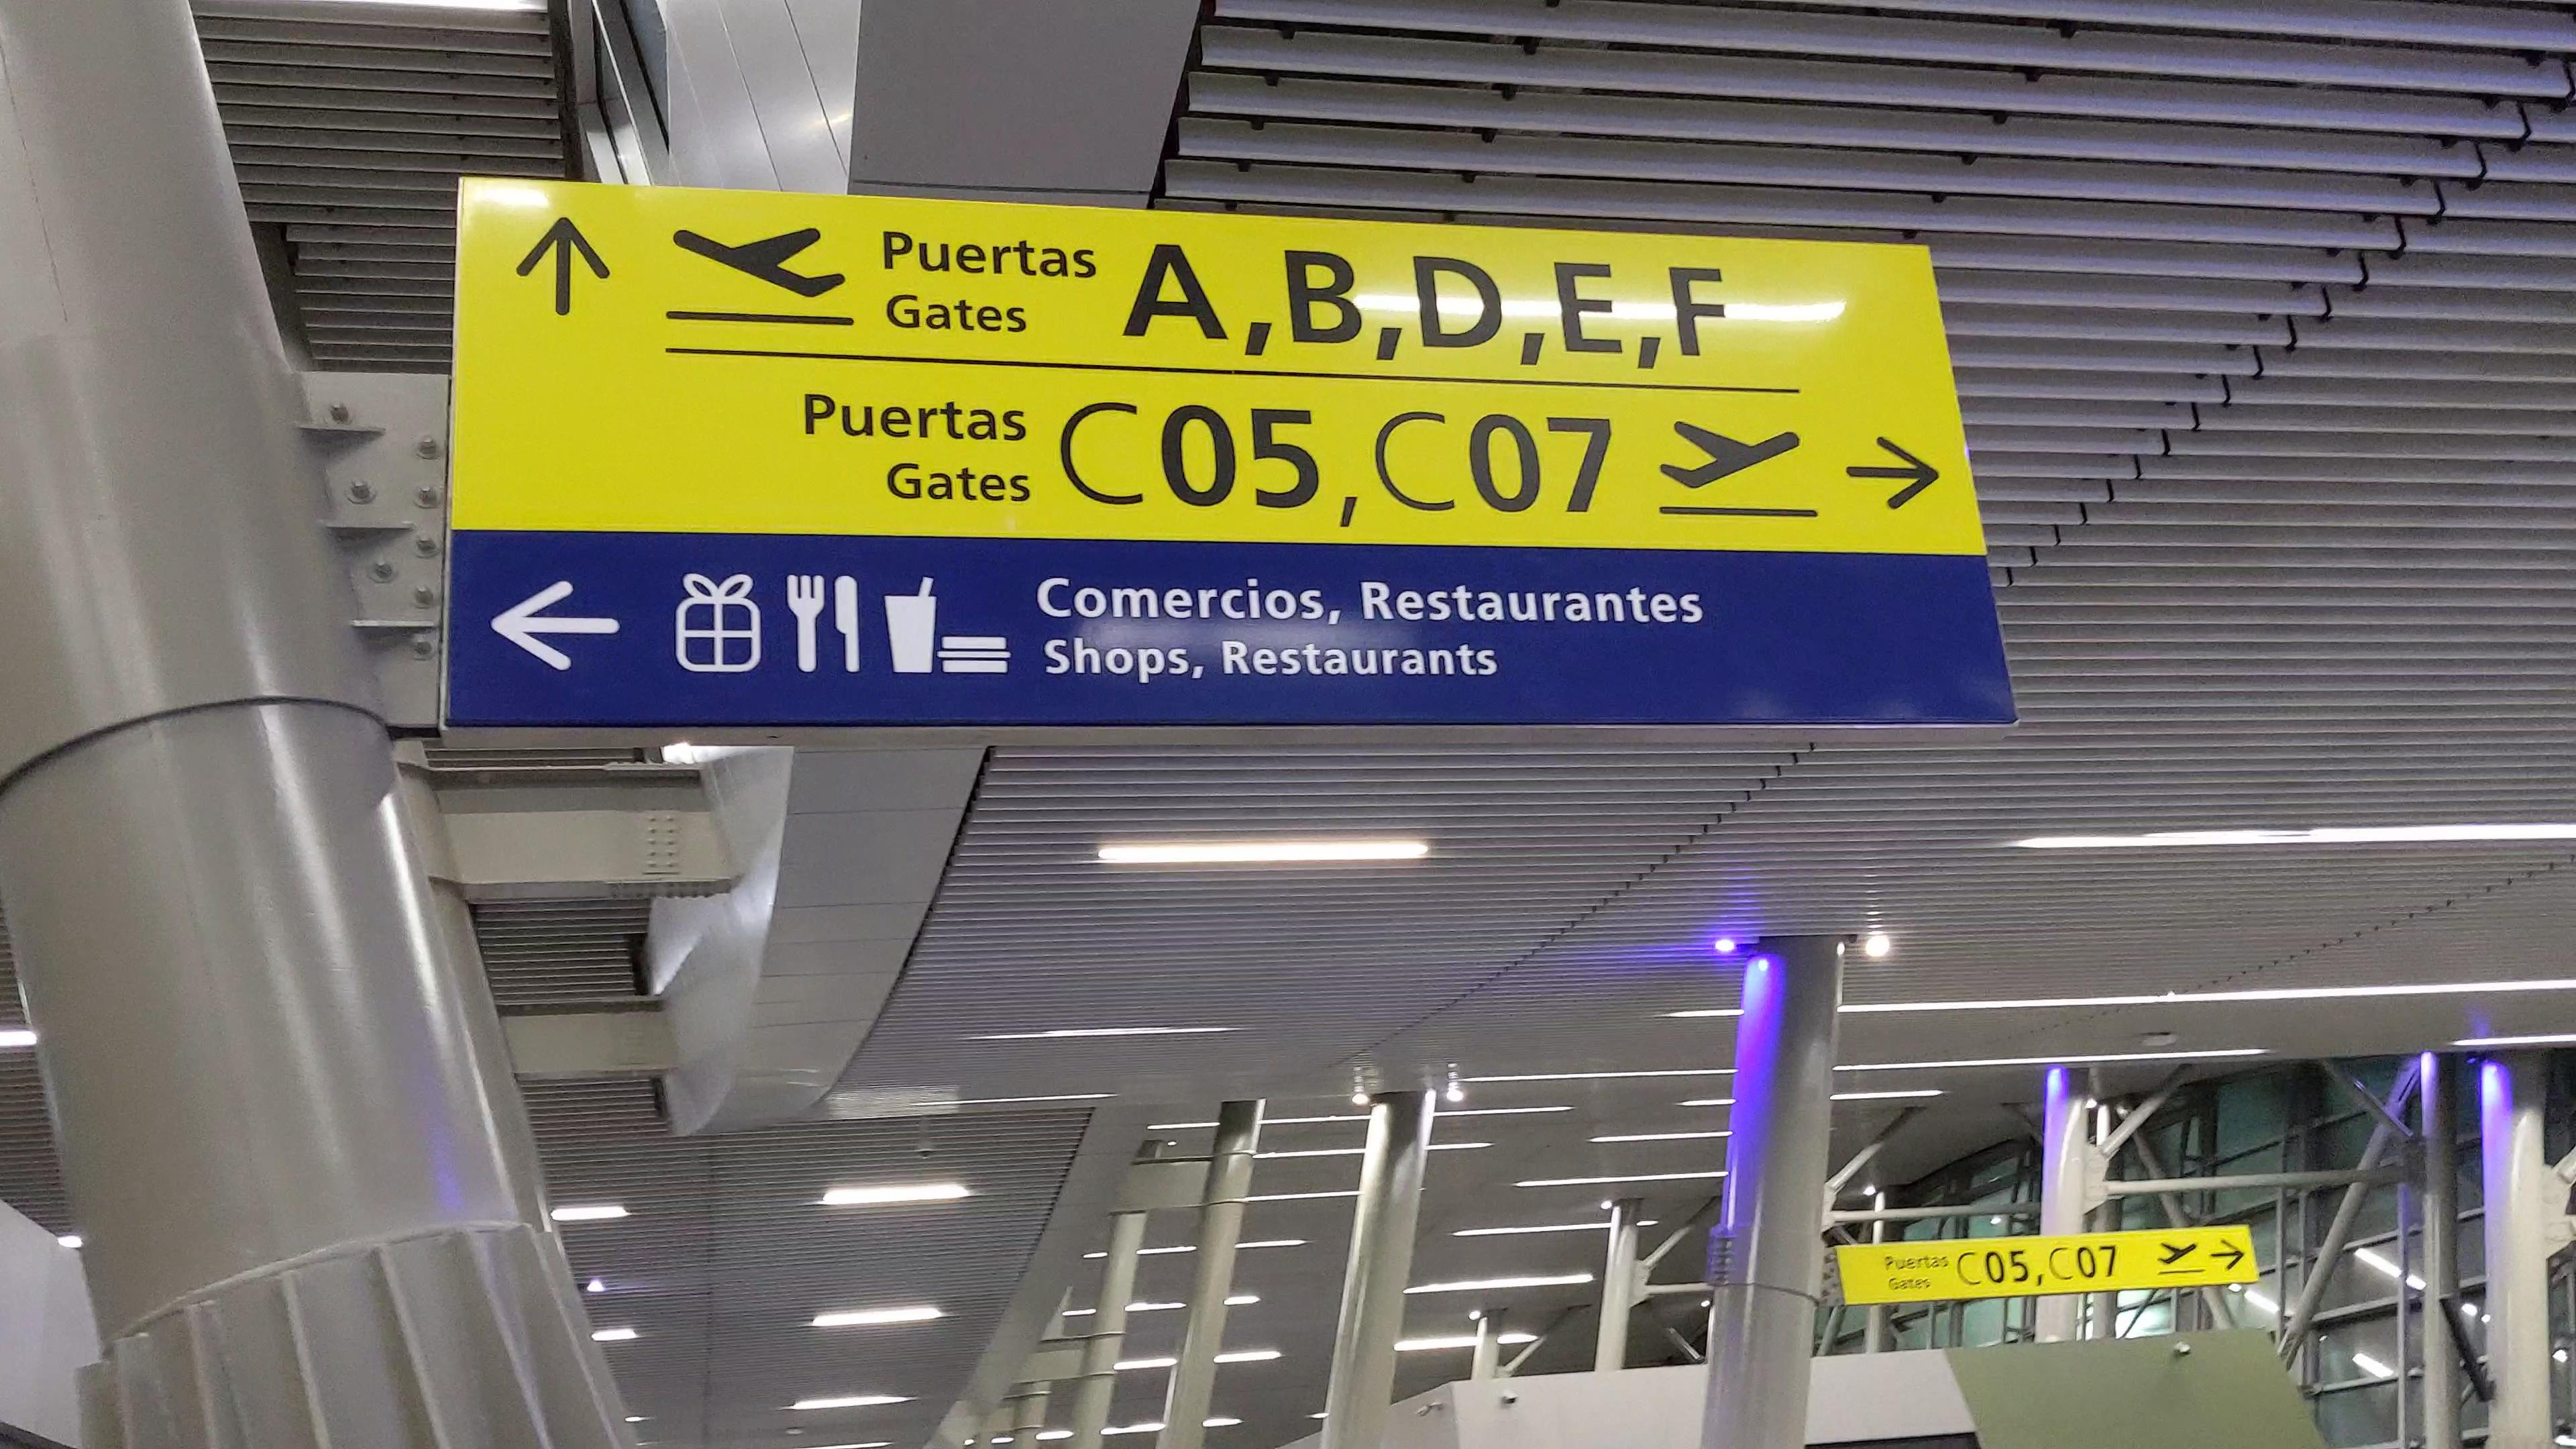airplane symbol: (665, 219, 853, 306), (1658, 414, 1806, 494), (2155, 1238, 2199, 1270)
restaurants: (784, 563, 865, 685)
thin left arrow: (487, 577, 619, 678)
thin right arrow: (1838, 430, 1948, 515), (2210, 1237, 2243, 1274)
thin up arrow: (513, 212, 616, 324)
